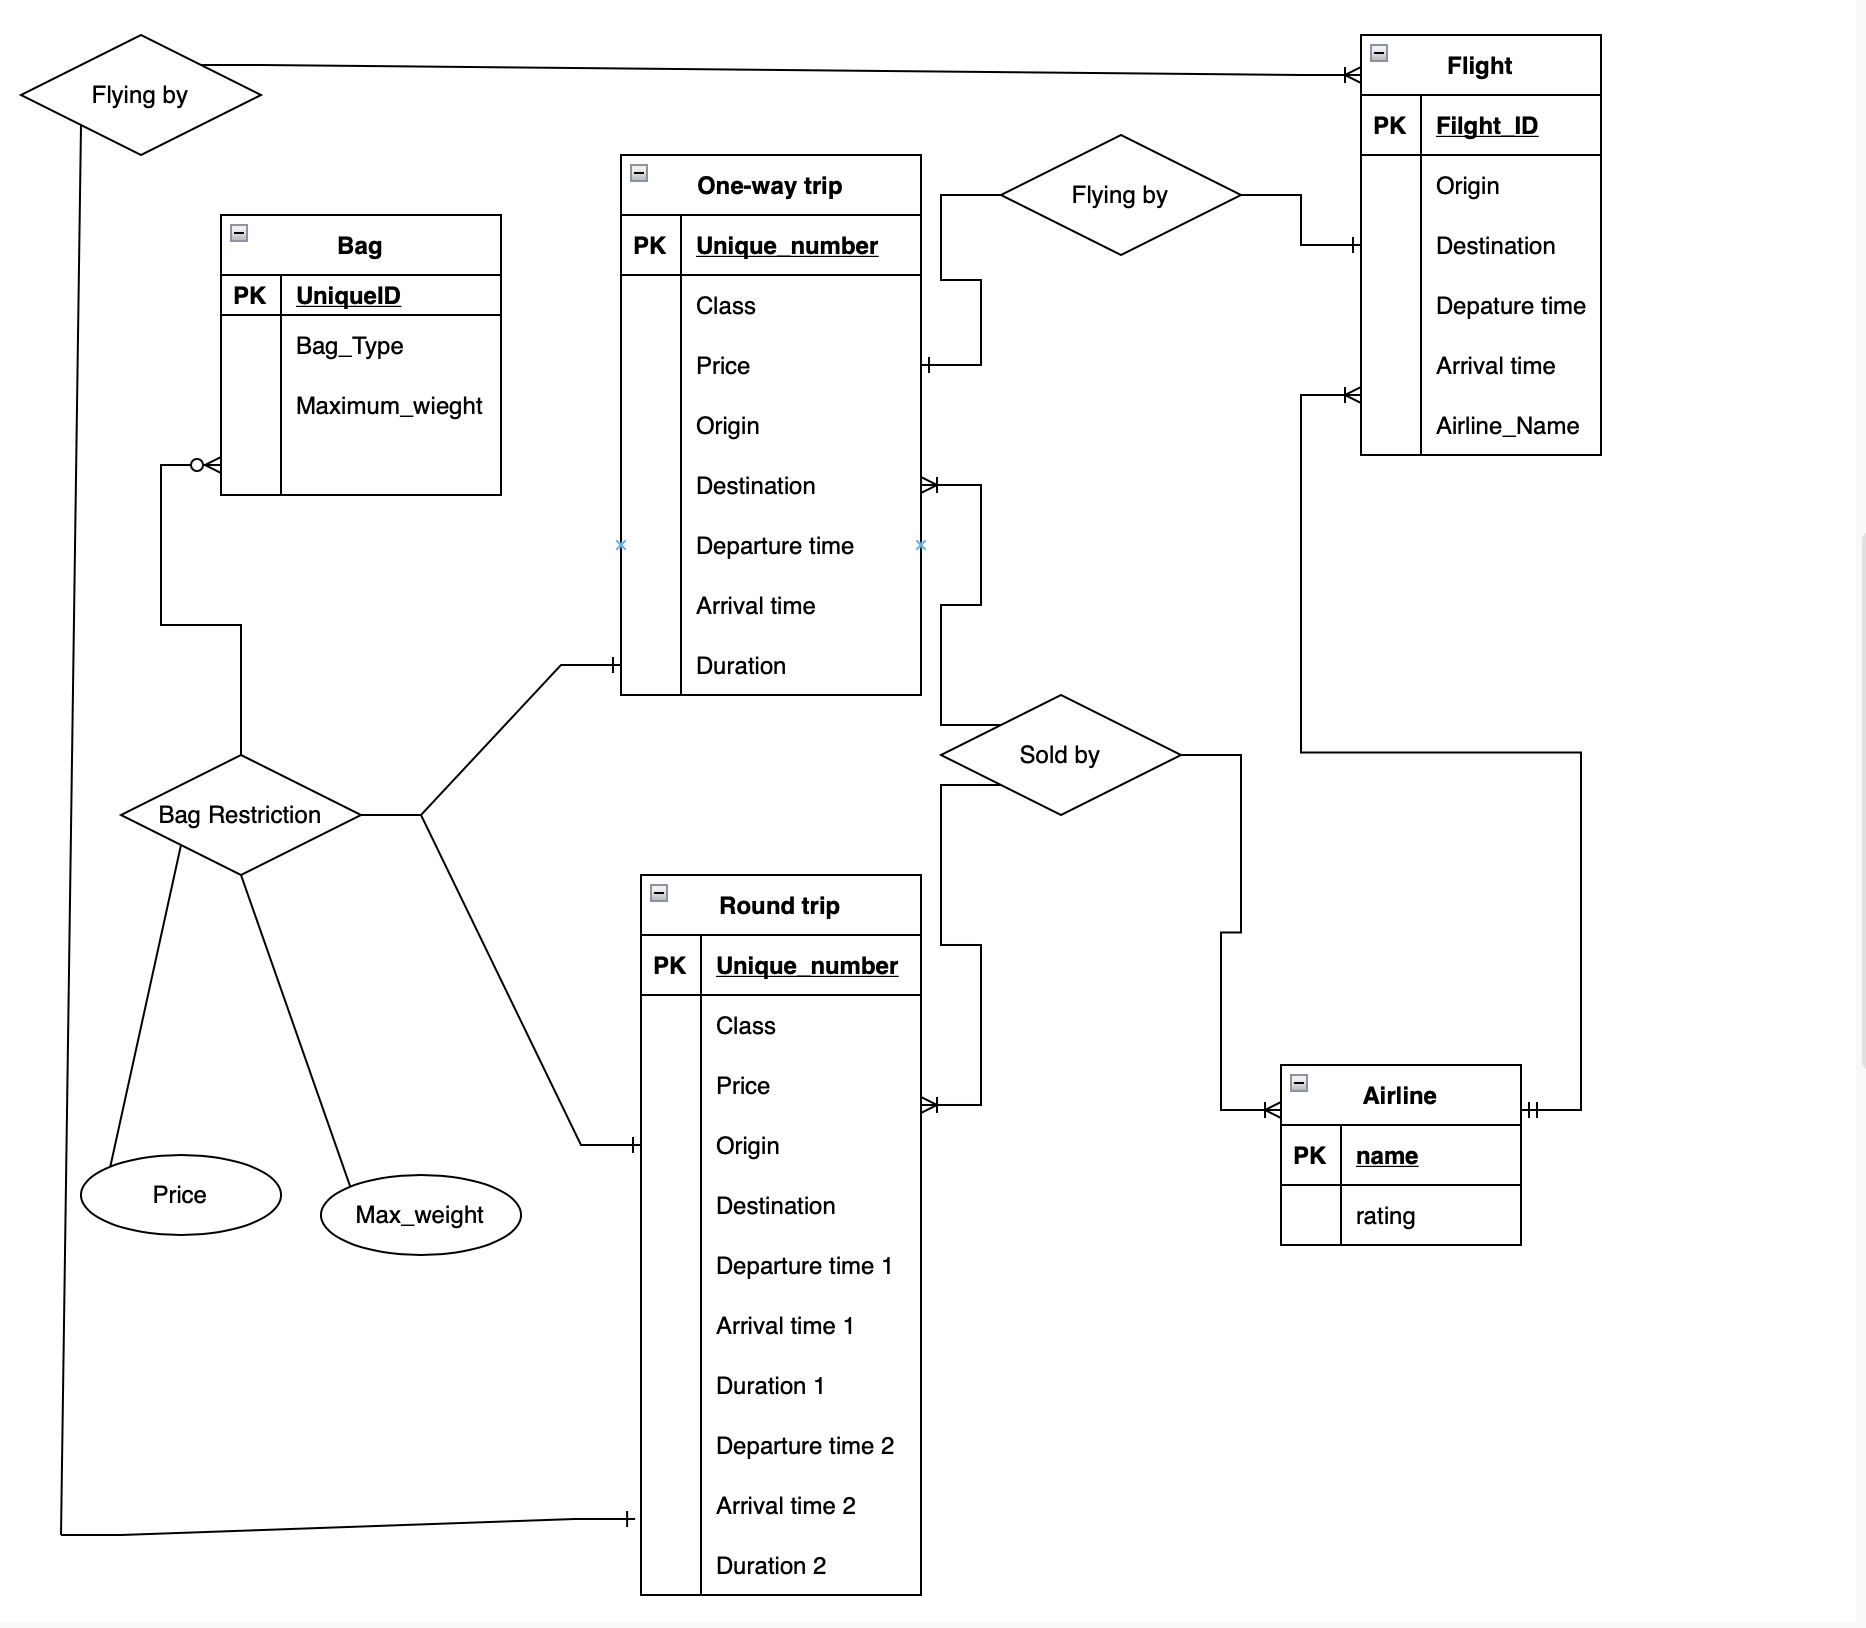entity: (638, 876, 922, 1595), (620, 152, 917, 693), (1358, 32, 1599, 454), (1280, 1062, 1519, 1242)
many: (916, 463, 965, 509), (167, 444, 221, 482), (1322, 56, 1365, 102), (923, 1084, 965, 1127), (1234, 1090, 1284, 1125), (1315, 379, 1361, 413)
one: (593, 1499, 641, 1544), (593, 1120, 641, 1158), (1522, 1087, 1565, 1128), (574, 643, 619, 681), (1319, 230, 1360, 259), (917, 347, 955, 376)
rel: (938, 693, 1184, 819), (998, 135, 1246, 259), (22, 33, 259, 154), (122, 758, 359, 876)
rel_attr: (317, 1173, 524, 1257), (78, 1157, 284, 1238)
